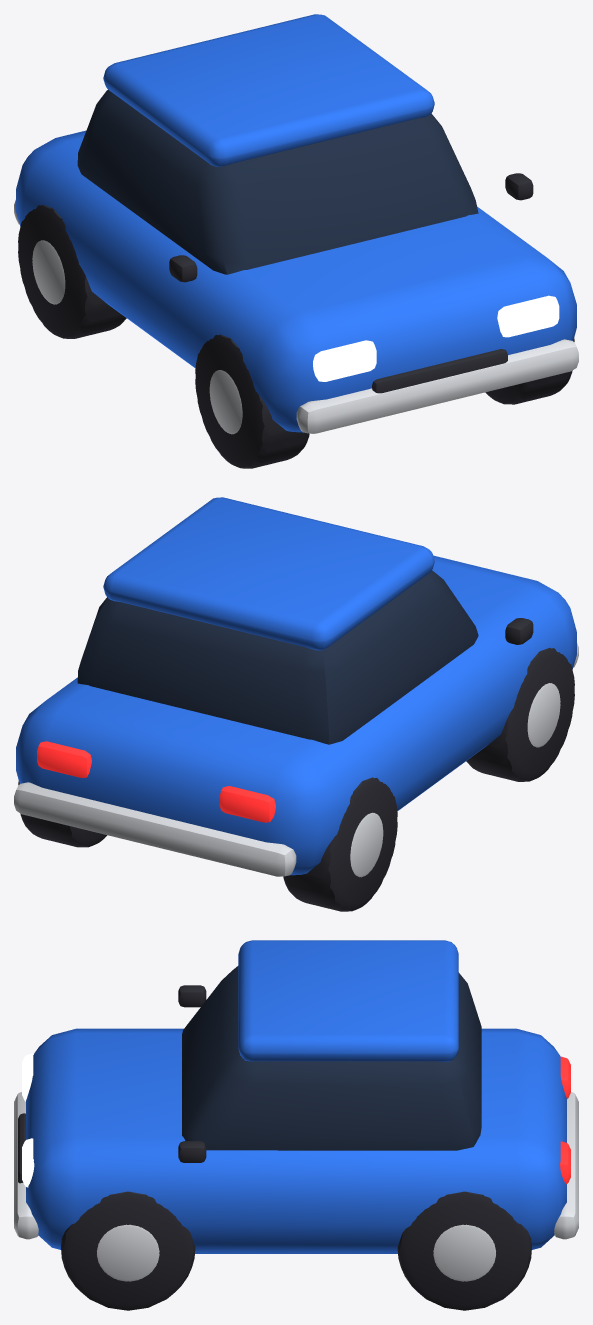
Rendered from ToyCoupe.fbx.
The picture shows the model from 3 angles, top to bottom: view 1: azimuth 30°, elevation 25°; view 2: azimuth 150°, elevation 25°; view 3: azimuth 270°, elevation 25°; orthographic projection. The views are drawn at different scales.
Parts seen in each view (by area): view 1: ToyCoupe; view 2: ToyCoupe; view 3: ToyCoupe.
Boxes of the visible parts, x1,y1,x2,y2 form: ToyCoupe: [14, 14, 578, 468]; ToyCoupe: [14, 497, 578, 911]; ToyCoupe: [14, 940, 578, 1310].
Bounding box in the file's own units: 0.97 × 0.6951 × 1.41.
